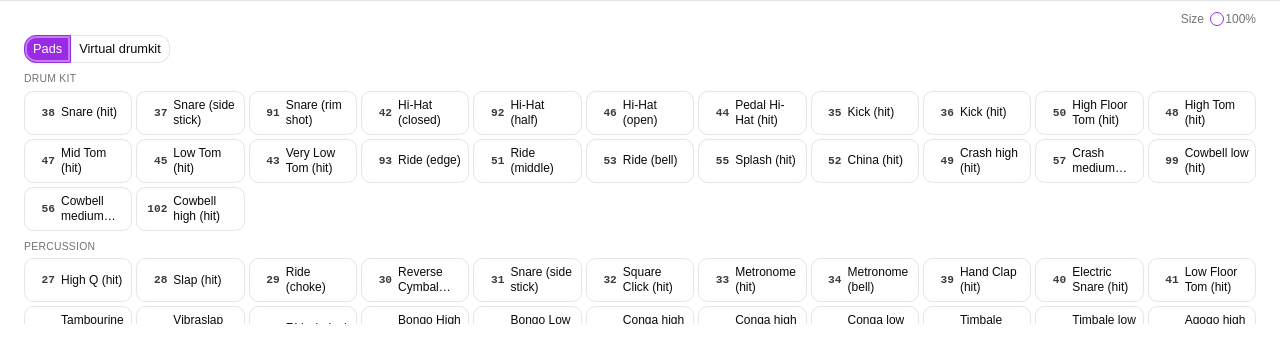
Test: InstrumentPanel: drums › switches between the pads and the virtual drumkit
What coordinates should you click on to do the following:
click the radio button labelled "Virtual drumkit"
I would click on:
 (120, 49)
Its box is [71,35,170,63].
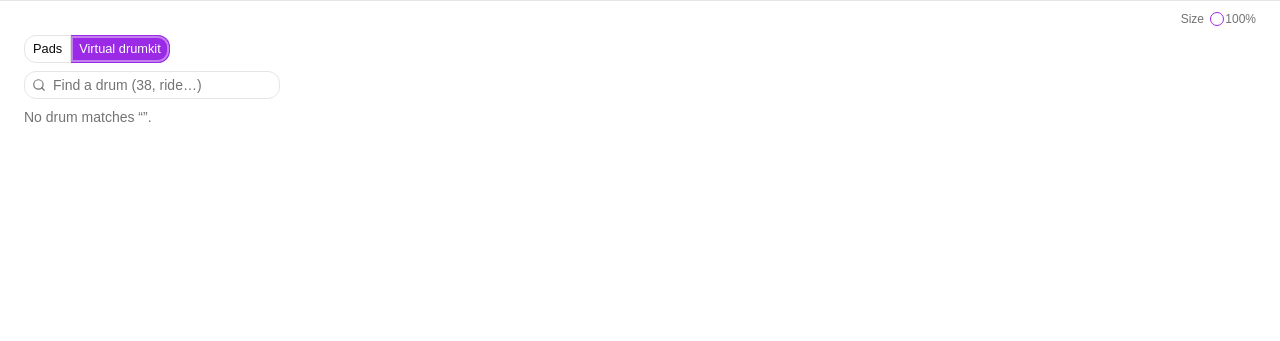
Check: the element with test id "virtual-drumkit" is shown, box [24,109,152,125]
What coordinates should you click on to do the following:
click the radio button labelled "Pads"
I would click on:
 (48, 49)
Its box is [24,35,71,63].
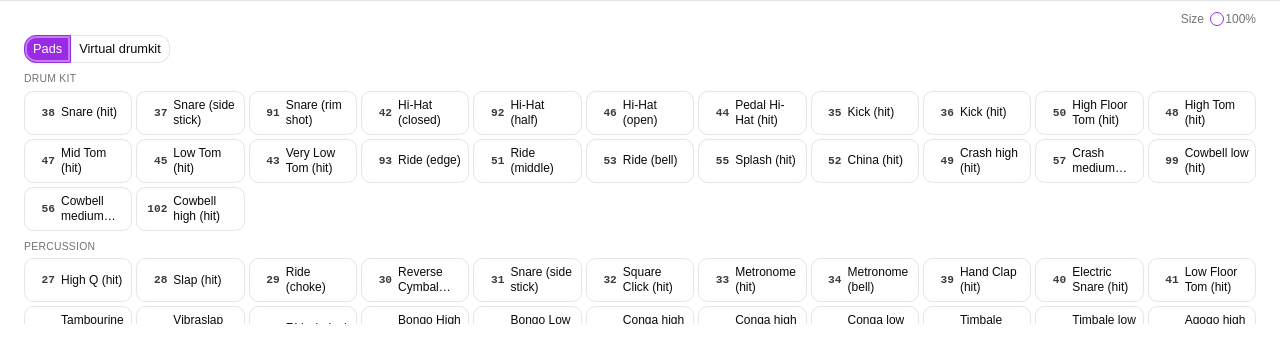
Check: the element with test id "virtual-drumkit" is gone
